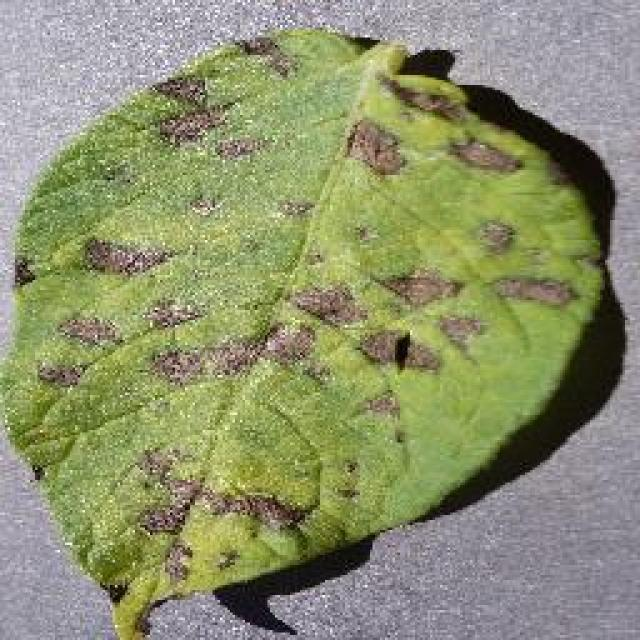Potato___Early_blight: (0, 29, 610, 638)
